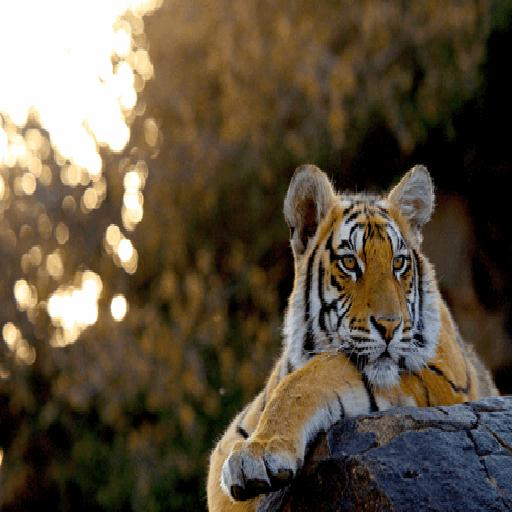Tiger: (195, 157, 512, 512)
